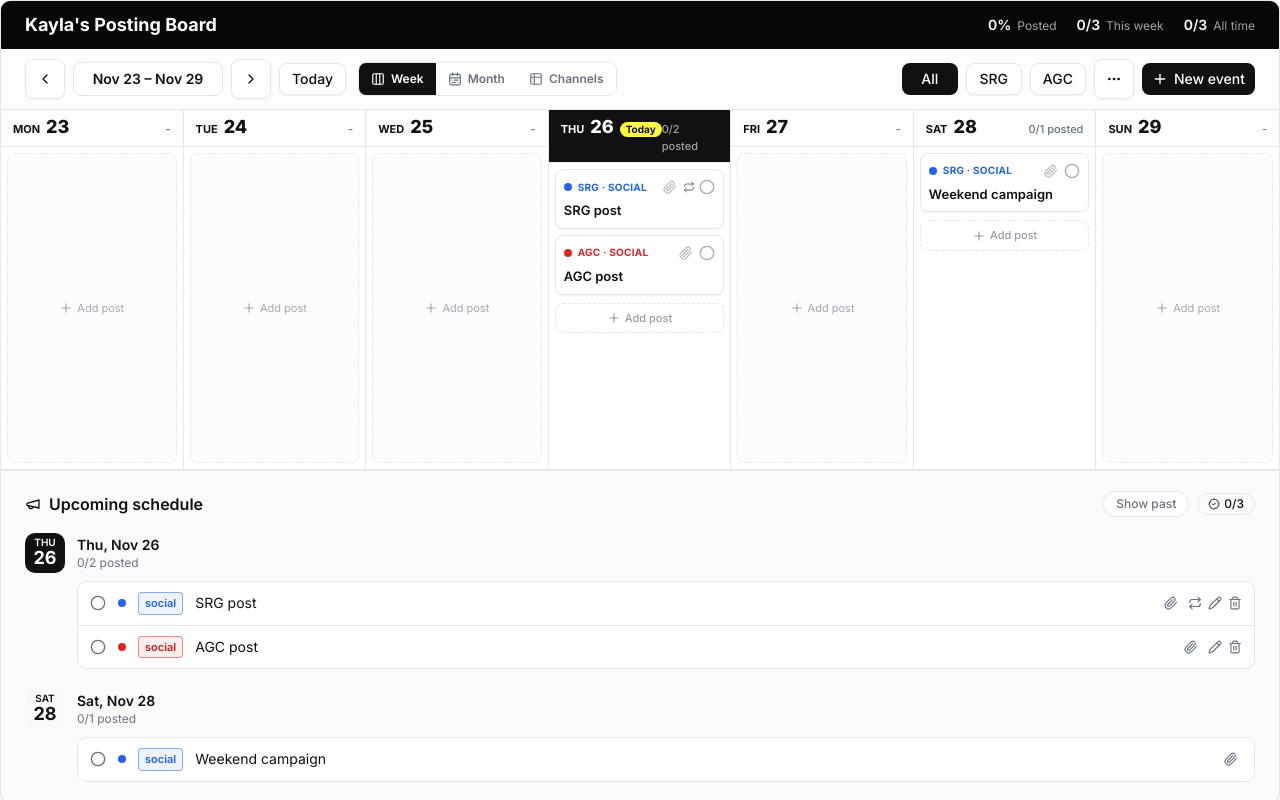
MarketingCalendar controls › lets a specific extra date be added to a schedule
The width and height of the screenshot is (1280, 800).
Check: the heading "Kayla's Posting Board" is shown, box [25, 11, 217, 39]
Click the button "New event" at [1198, 79], box [1142, 63, 1255, 95]
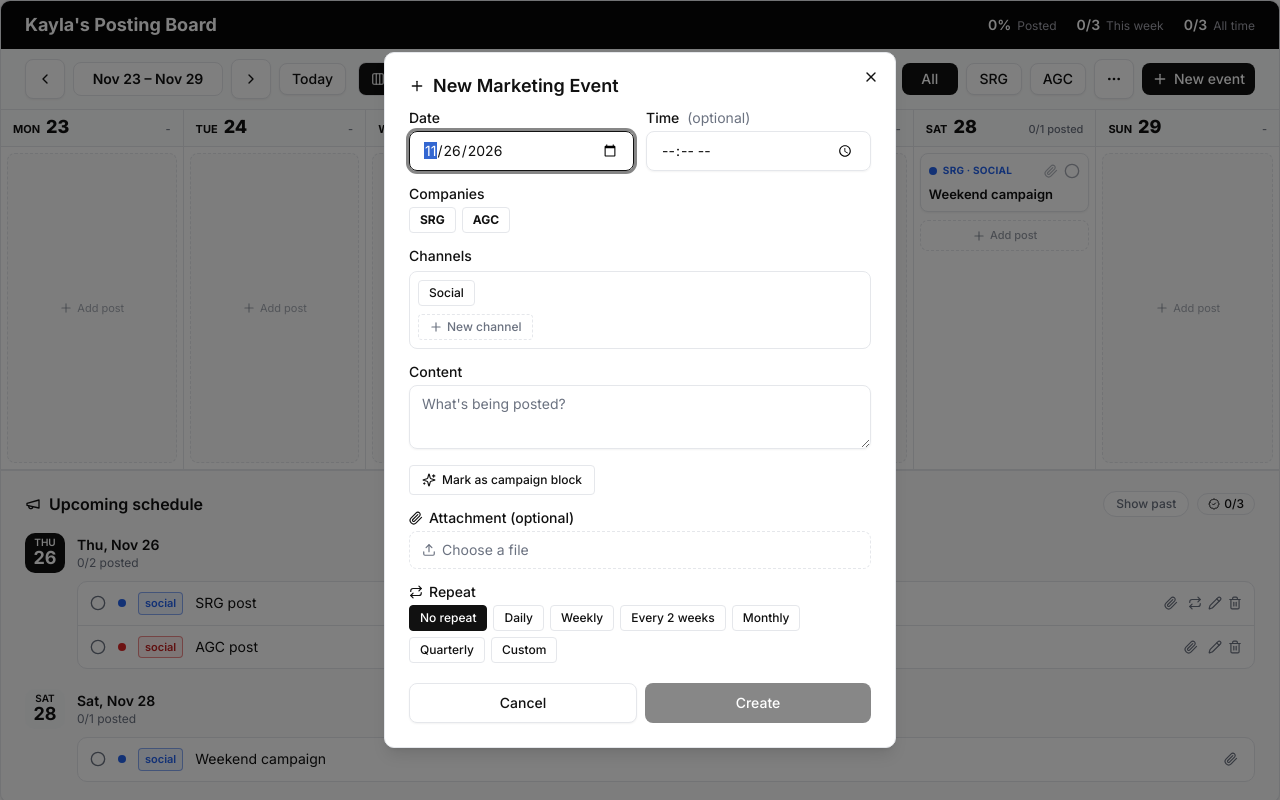
Type "2026-07-31" into the date field at [522, 151], box [409, 131, 634, 171]
Click the button "Social" at [446, 293], box [418, 280, 475, 306]
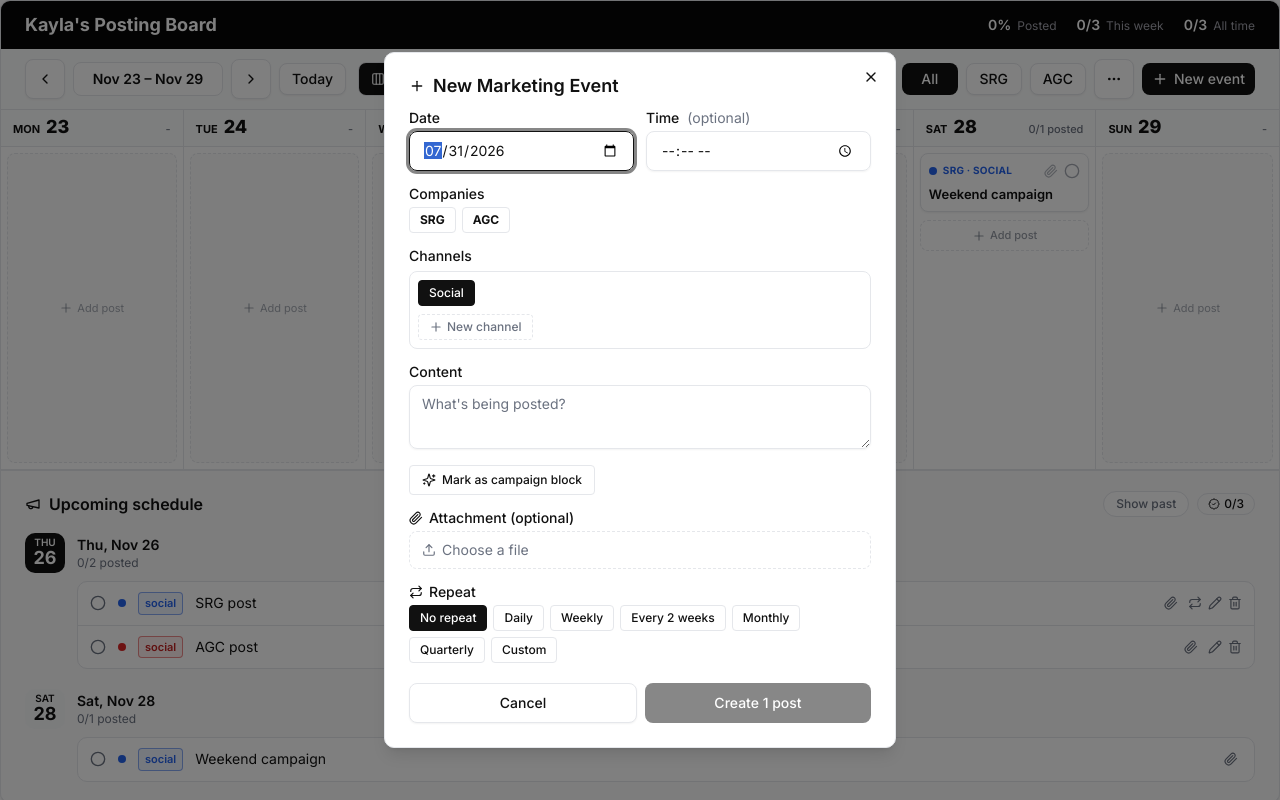
Click the button "Weekly" at [582, 618], box [550, 605, 614, 631]
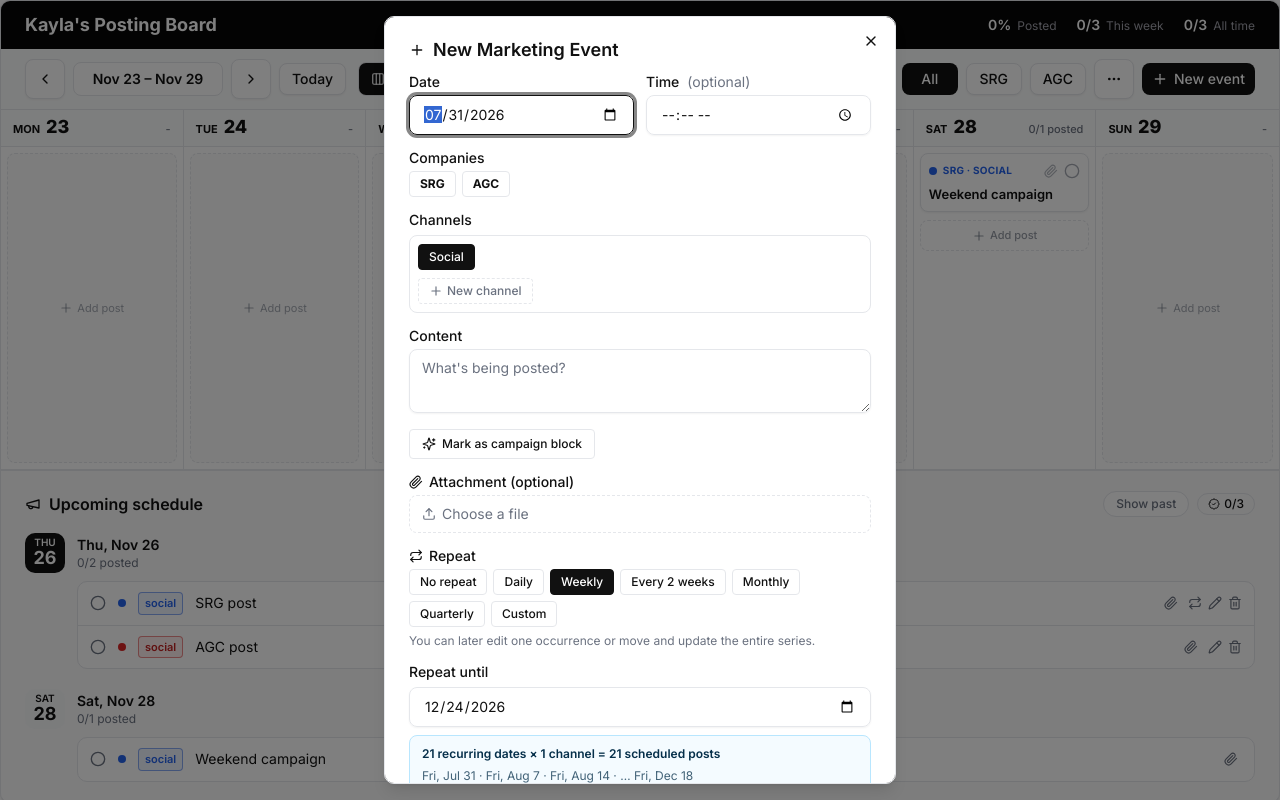
Type "2026-08-14" into the date field below "Repeat until" at [640, 707], box [409, 687, 871, 727]
(page scrolled)
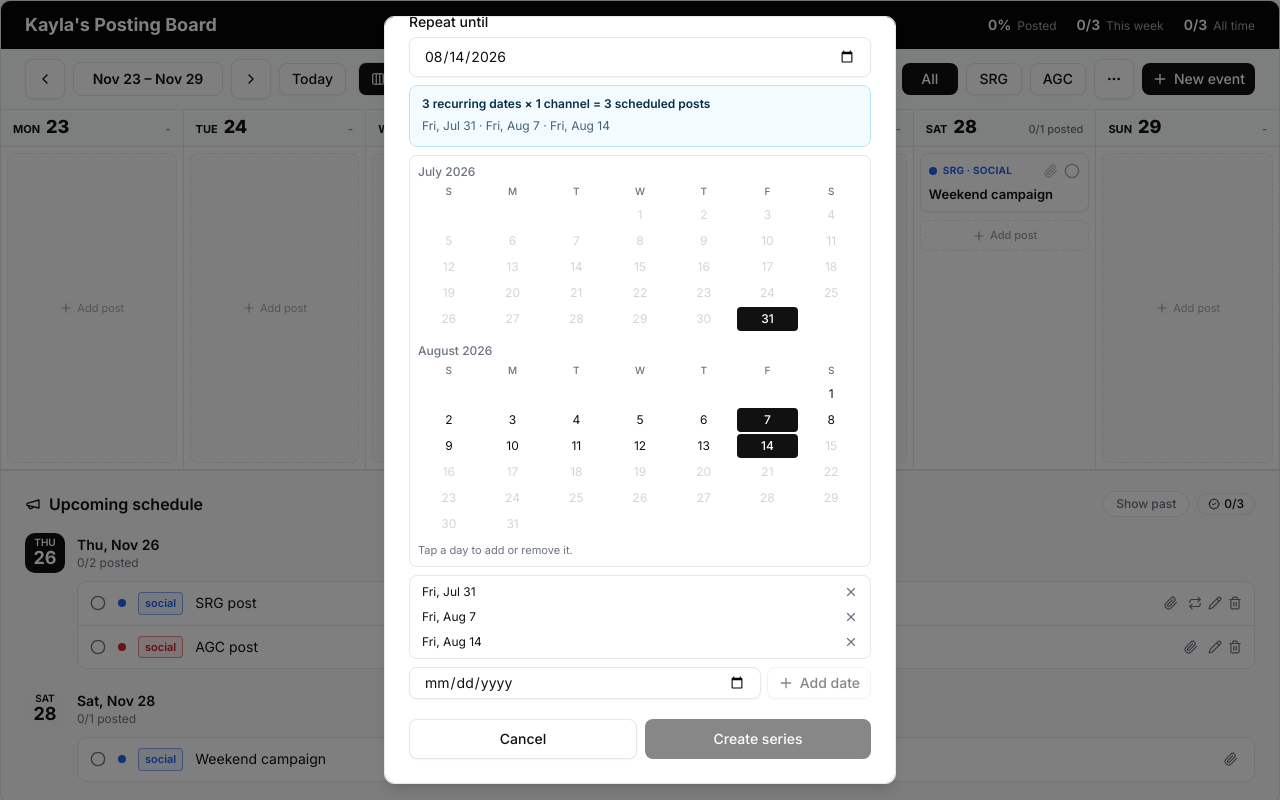
Type "2026-09-01" into the 2nd date field at [585, 683], box [409, 667, 761, 699]
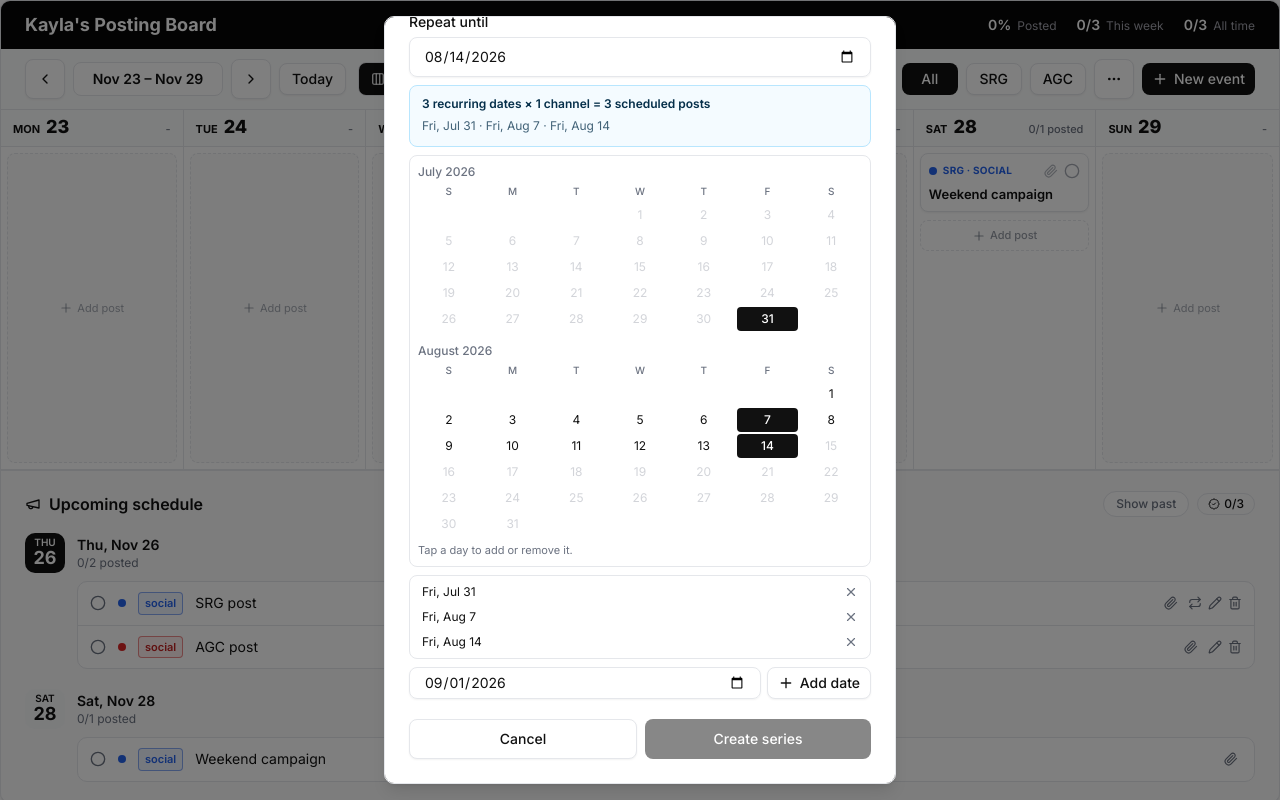
Click the button "Add date" at [819, 683], box [767, 667, 871, 699]
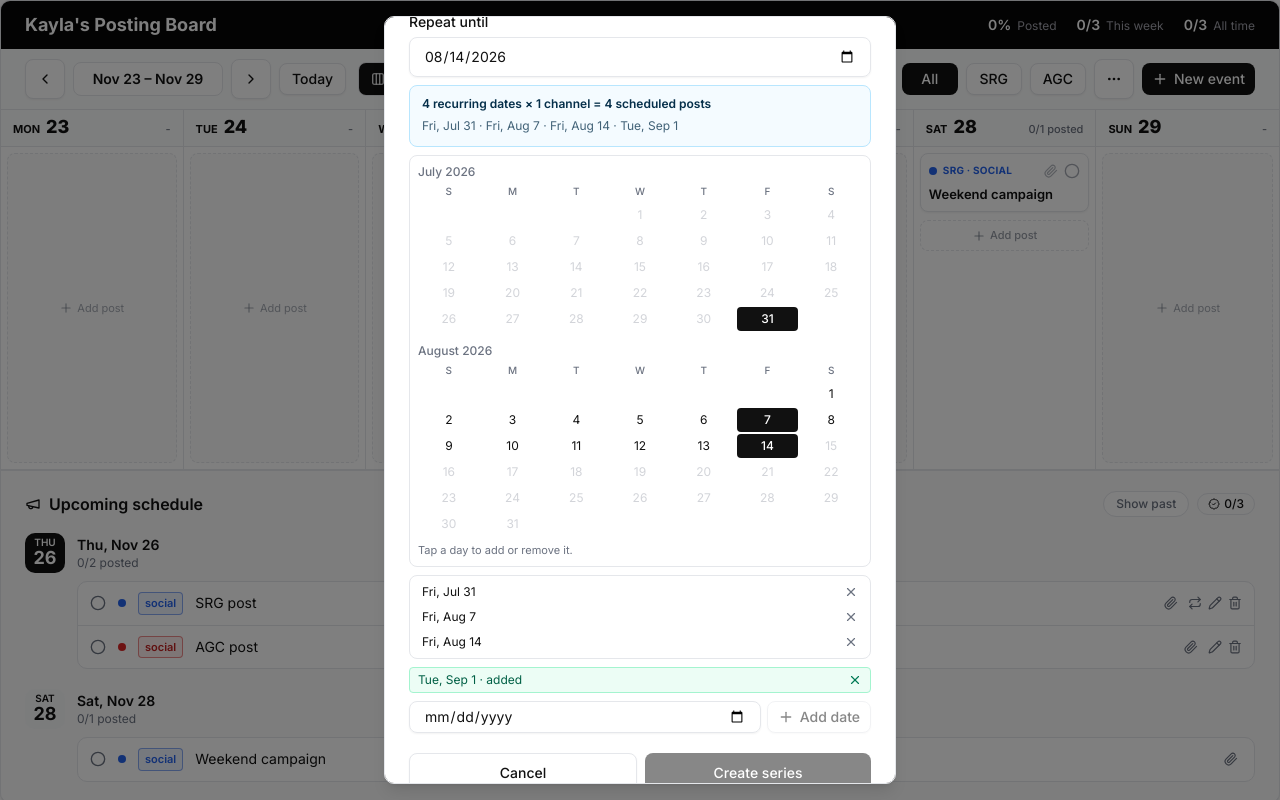
Check: the text "4 recurring dates × 1 channel = 4 scheduled posts" is shown, box [422, 96, 711, 111]
Check: the text "Tue, Sep 1 · added" is shown, box [418, 672, 522, 688]
